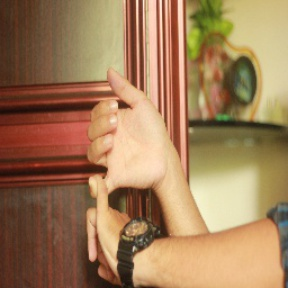S: (70, 66, 177, 288)
